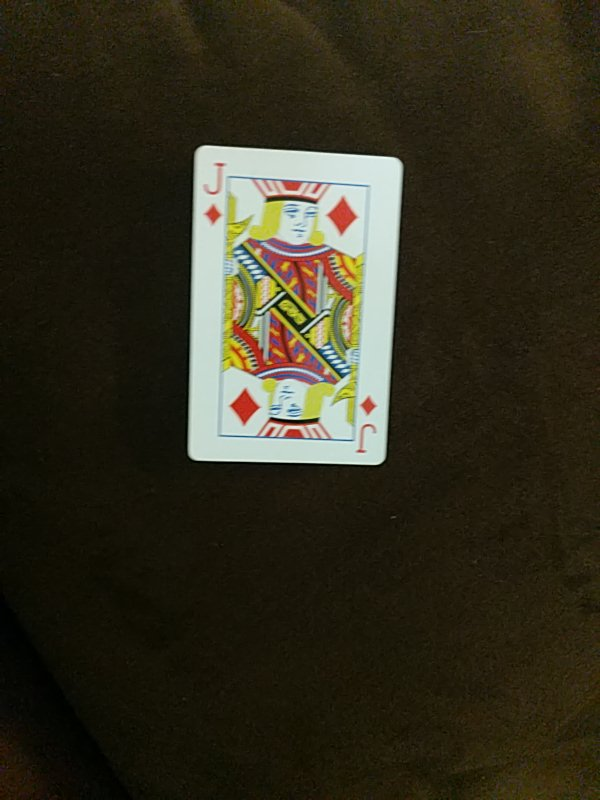Diamonds: (181, 142, 402, 466)
